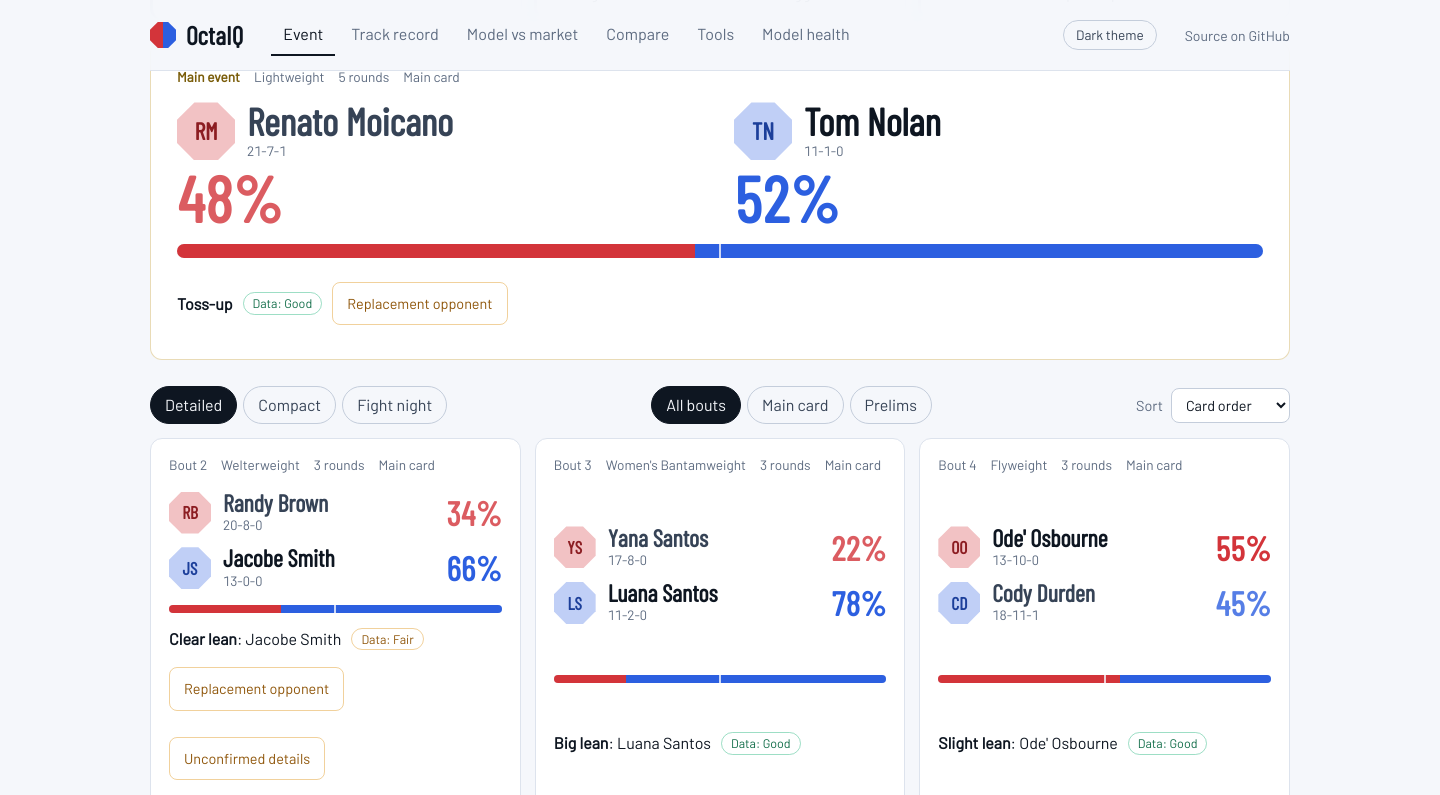
Test: trust and context features › compact layout lists the whole card with probability, data quality and main factor separately
(page scrolled)
Click the button "Compact": (290, 405) [243,386,336,424]
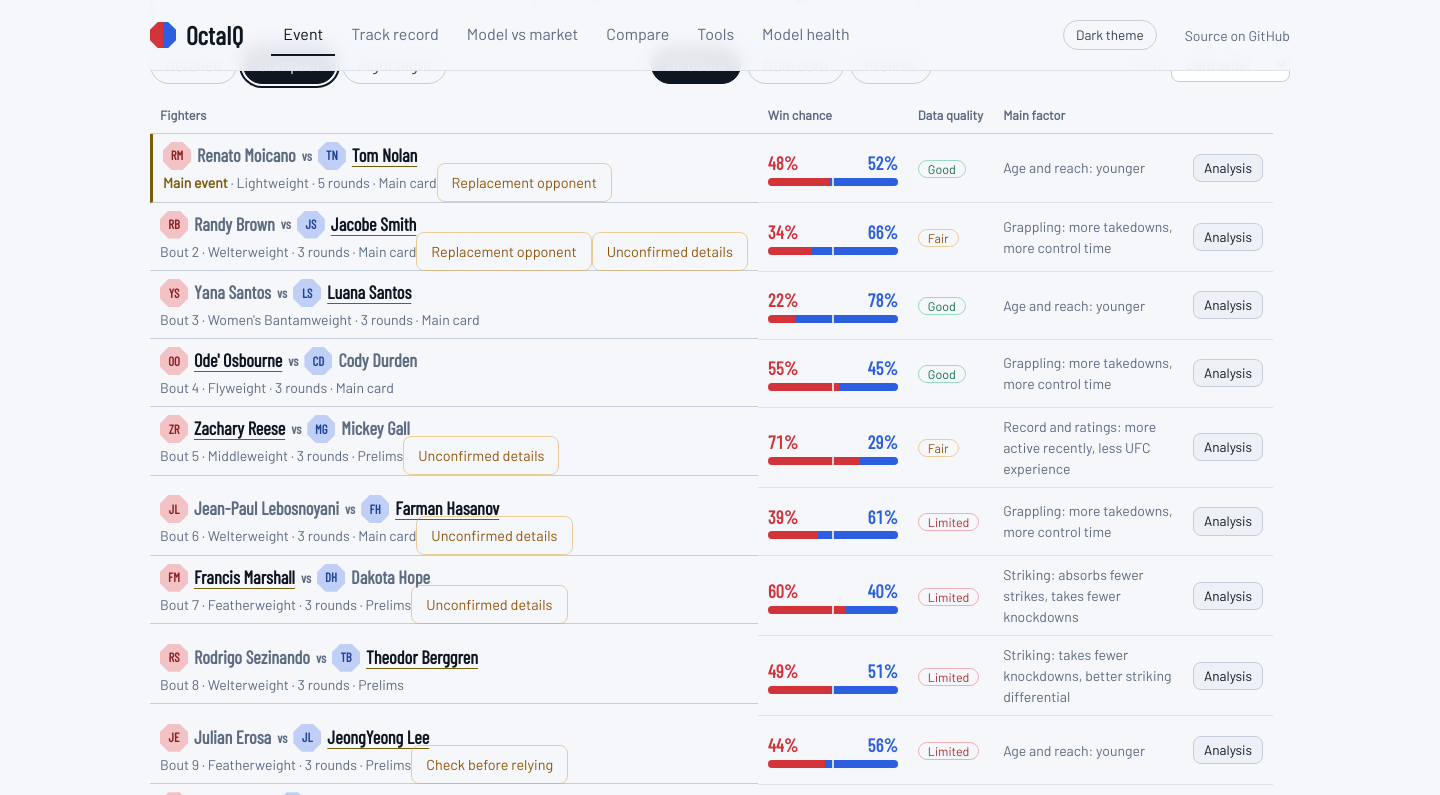
Expected: the number of rows is 13
Expected: the column heading "Data quality" is shown, [908,98,993,133]
Expected: the text "Good" in the row of "Renato Moicano" is shown, [928,162,956,176]
Click the button "Analysis" in the row of "Renato Moicano": (1228, 168) [1193,154,1263,182]
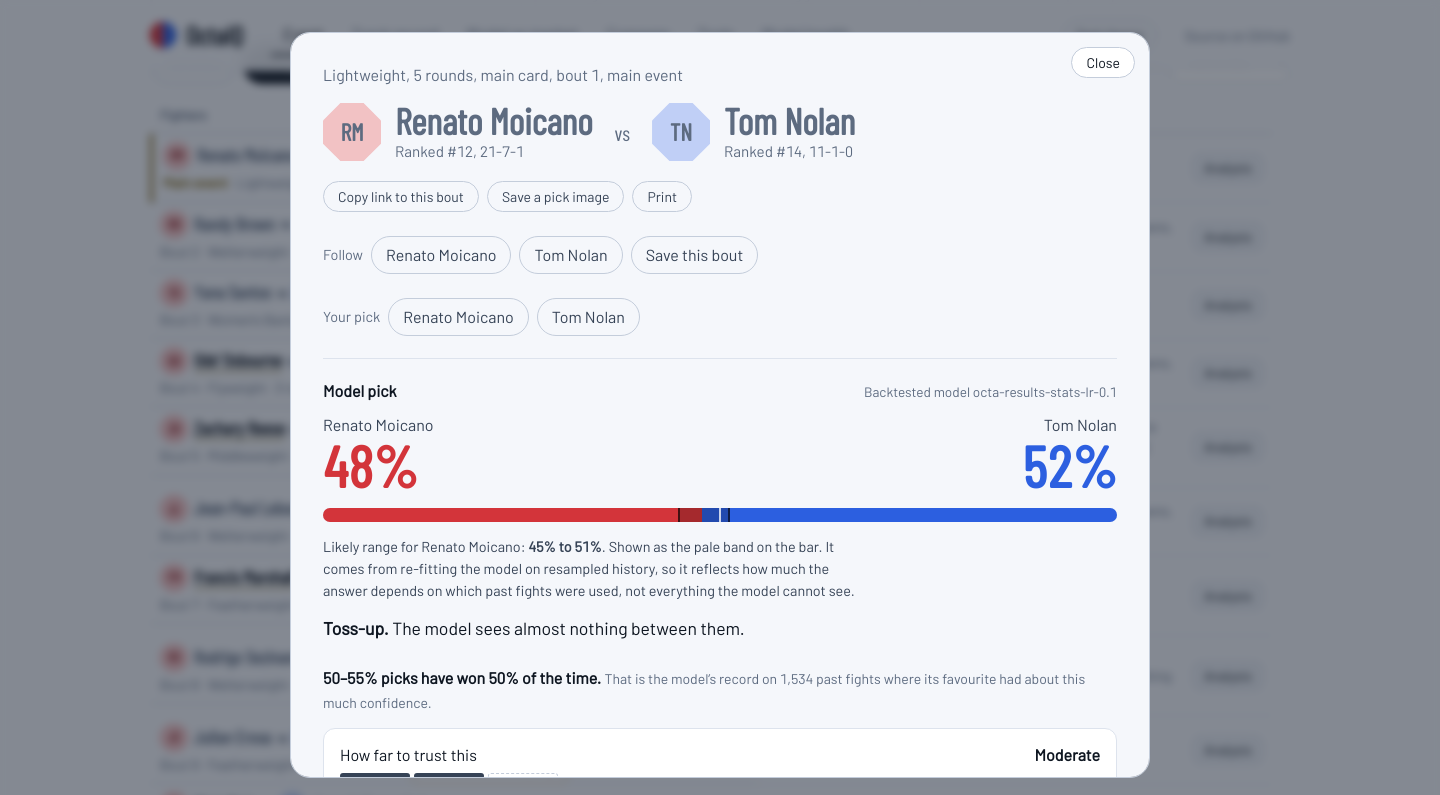
Expected: the dialog is shown, [290,32,1150,778]
